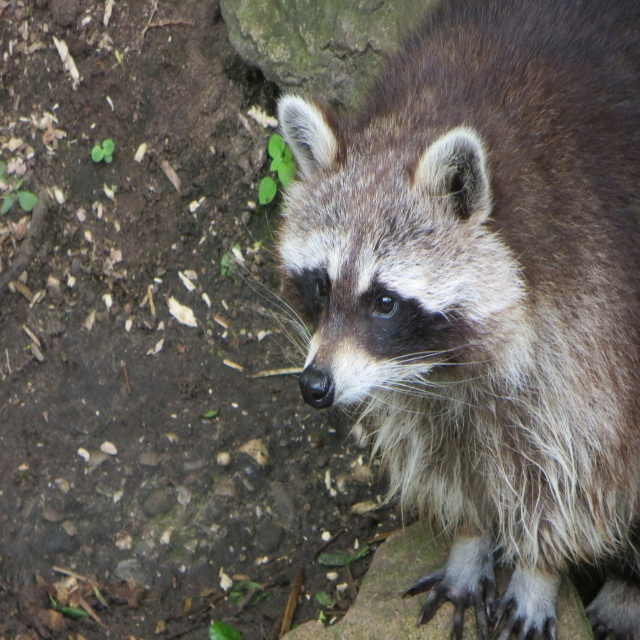Raccoon: (234, 0, 640, 639)
